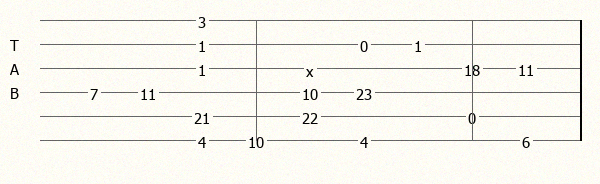0: (360, 37, 372, 52), (468, 109, 480, 124)
1: (198, 37, 210, 52), (198, 61, 210, 76), (414, 37, 426, 52)
10: (248, 133, 268, 148), (302, 85, 322, 100)
11: (140, 85, 160, 100), (518, 61, 538, 76)
18: (464, 61, 484, 76)
21: (194, 109, 214, 124)
22: (302, 109, 322, 124)
23: (356, 85, 376, 100)
3: (198, 13, 210, 28)
4: (198, 133, 210, 148), (360, 133, 372, 148)
6: (522, 133, 534, 148)
7: (90, 85, 102, 100)
x: (306, 62, 318, 74)
